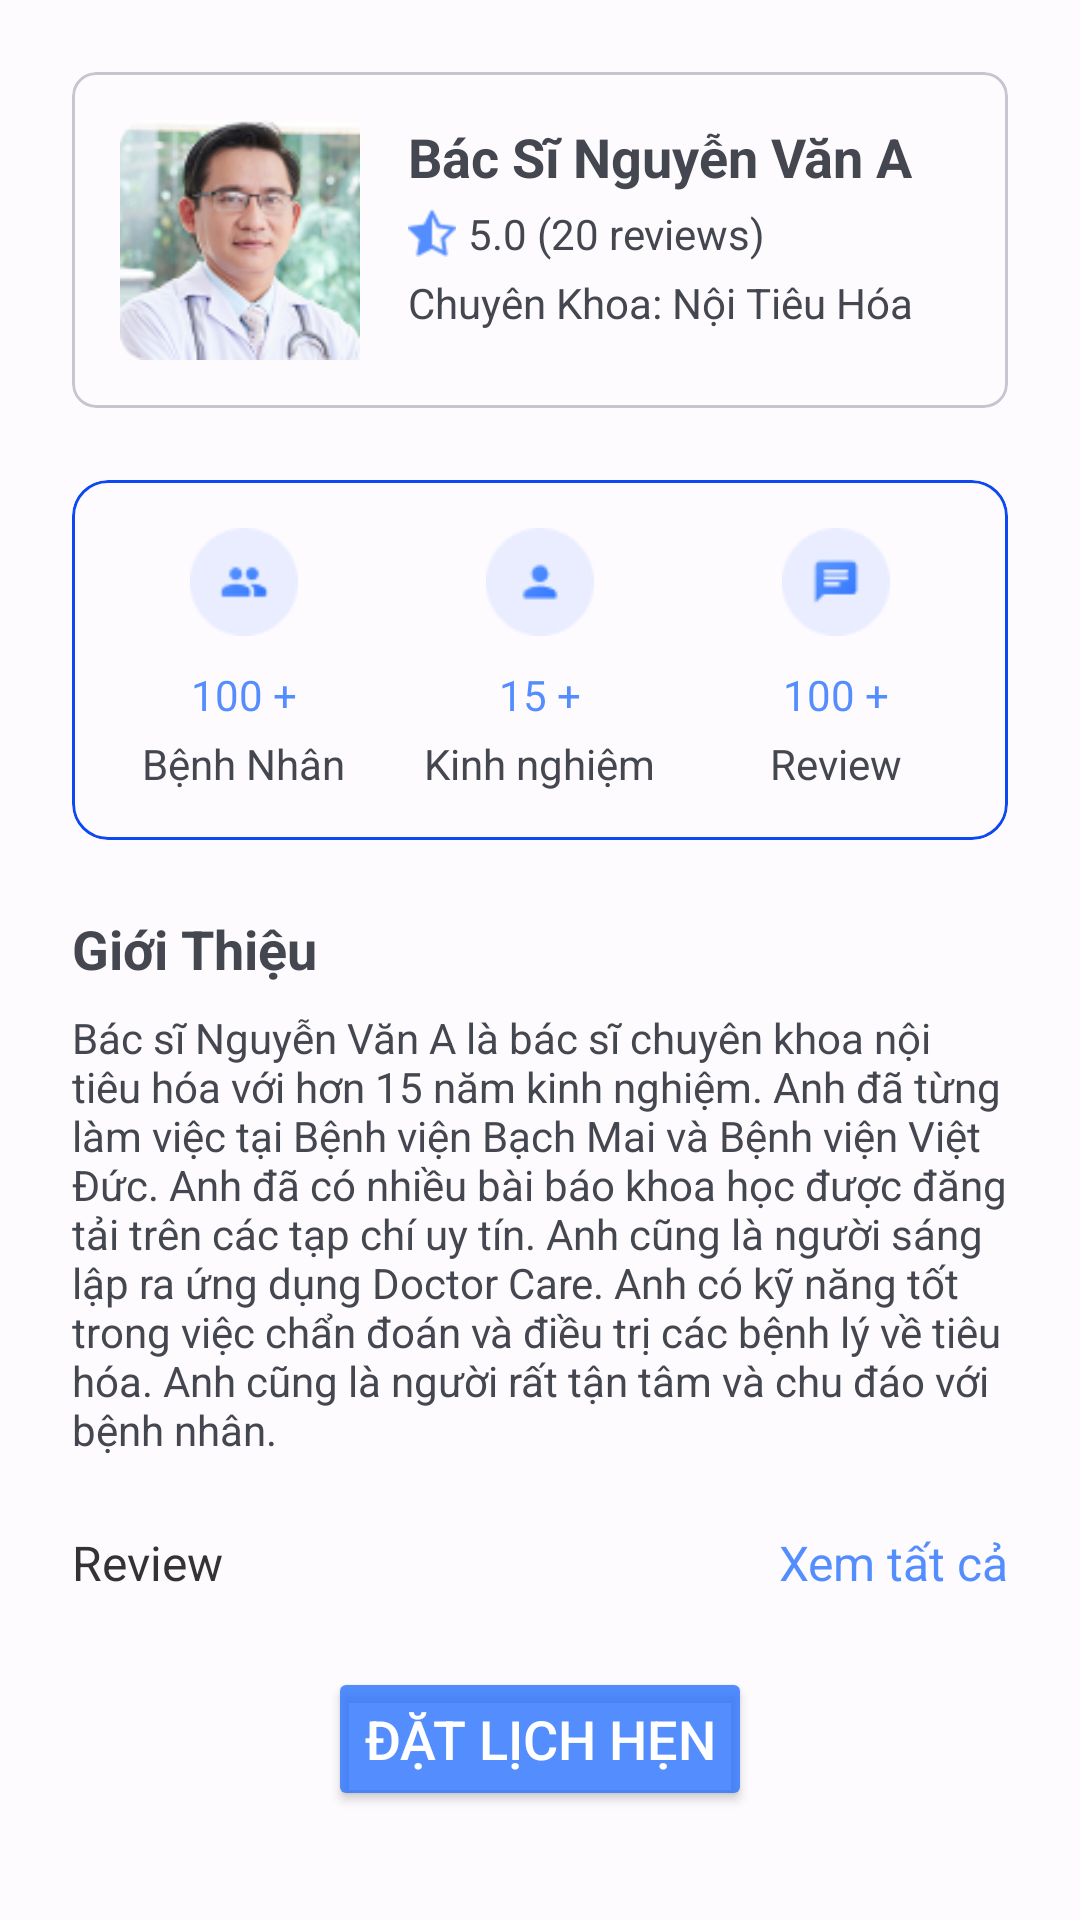

Named icons in this screenshot (1080px×1920px) and their bounding boxes, box=[x1, y1, x2, y2]:
avt doctor: box=[120, 122, 360, 360]
people: box=[219, 566, 269, 598]
personal: box=[522, 564, 558, 600]
star: box=[408, 210, 456, 257]
